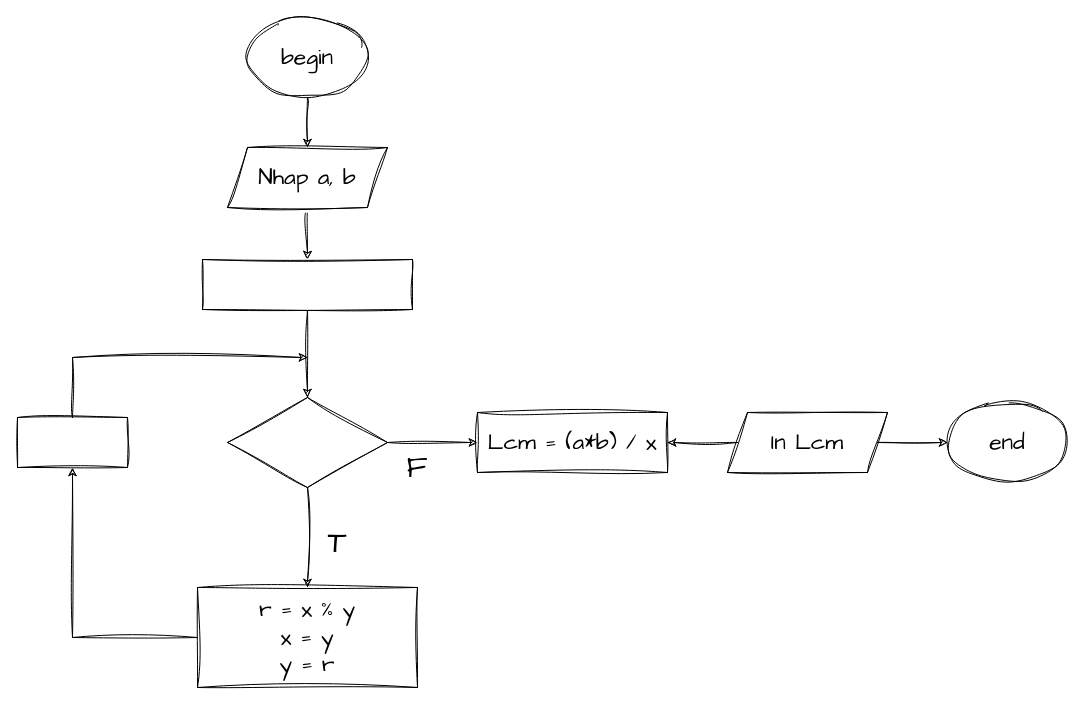
The diagram is 1085 pixels wide and 705 high, and some of its shapes have lost their labels. Each missing label, with the centre of its shape:
i++: the point at 72,442
x = a, y = b: the point at 307,284
y !=0: the point at 307,442
